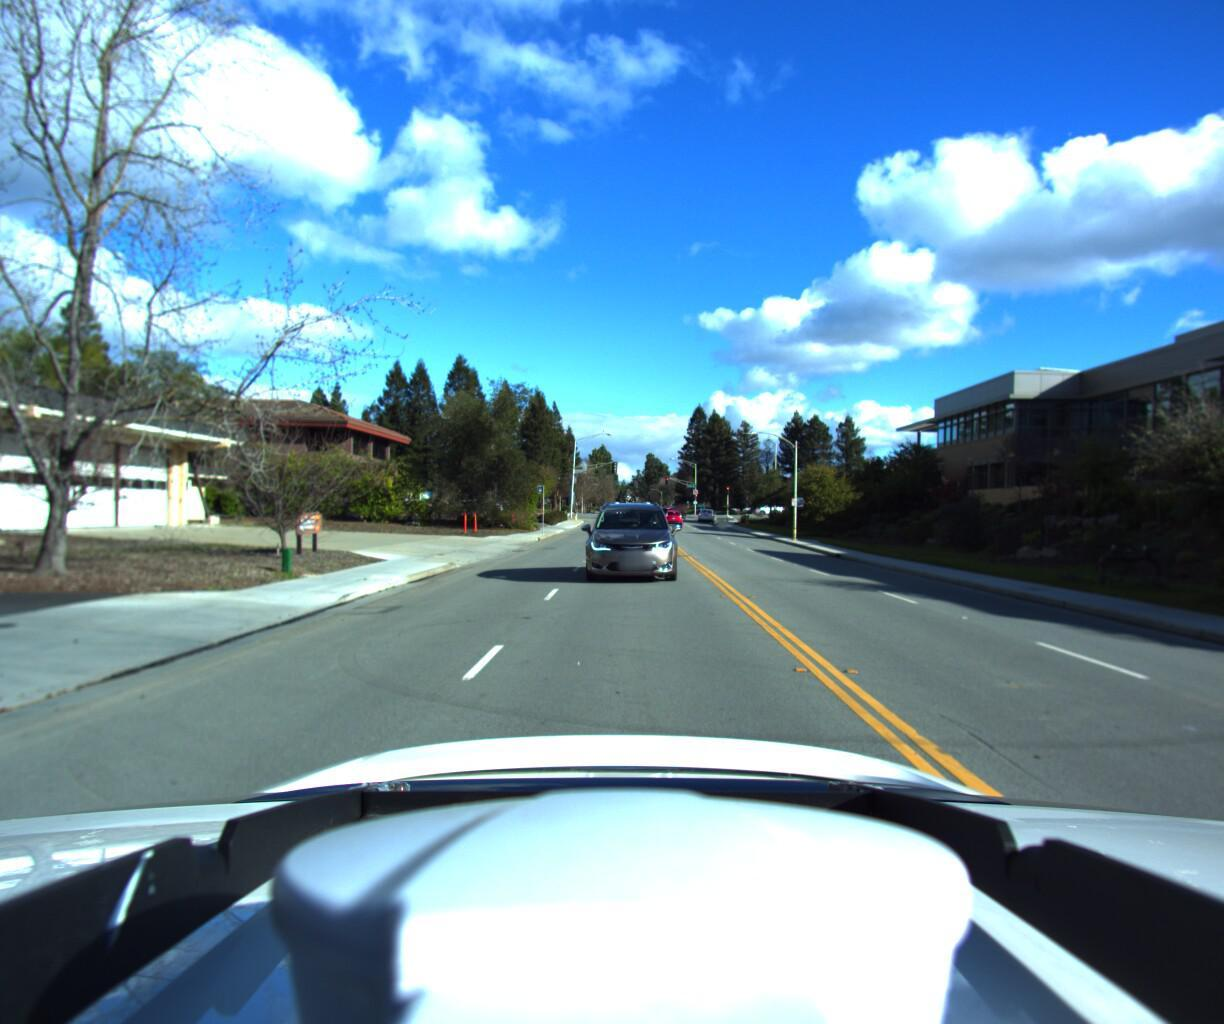car: (569, 488, 679, 586), (660, 508, 680, 525)
